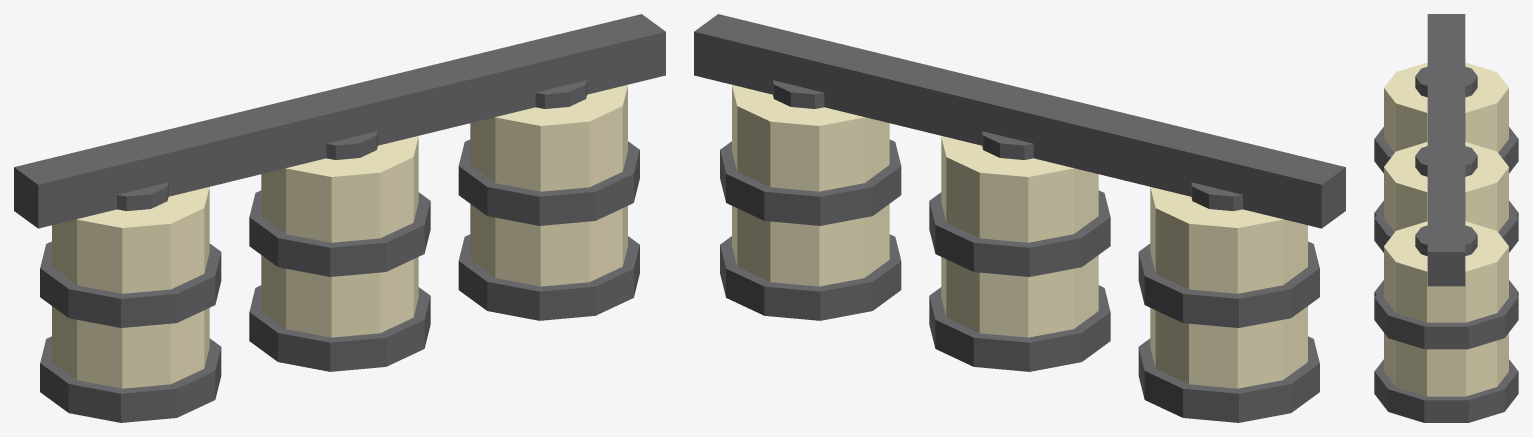
The model's file is dm_lampcluster.glb.
The picture shows the model from 3 angles, left to right: view 1: azimuth 30°, elevation 25°; view 2: azimuth 150°, elevation 25°; view 3: azimuth 270°, elevation 25°; orthographic projection. The views are drawn at different scales.
Visible parts, largest first — view 1: dm_lampcluster; view 2: dm_lampcluster; view 3: dm_lampcluster.
Part boxes in pixels (box(x1,y1,x2,y2)): dm_lampcluster: box(14, 14, 665, 422); dm_lampcluster: box(694, 14, 1345, 422); dm_lampcluster: box(1374, 14, 1518, 422).
Size of the model in its own units: 0.9 by 0.32 by 0.23.
